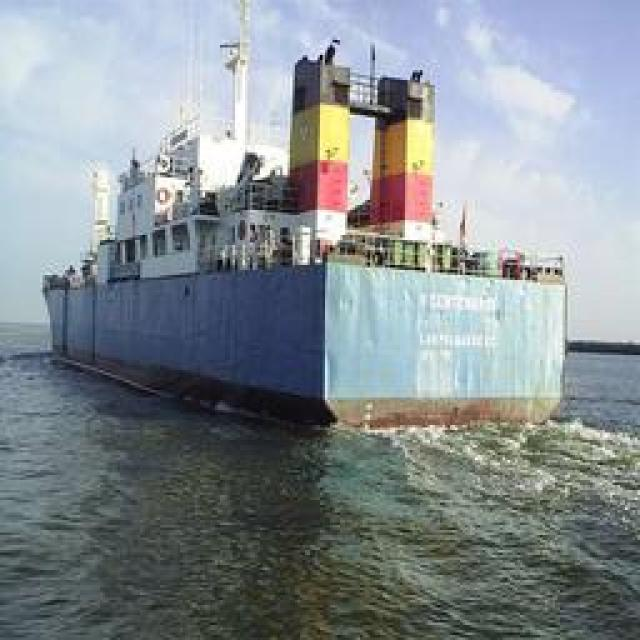ship2: (40, 0, 567, 431)
